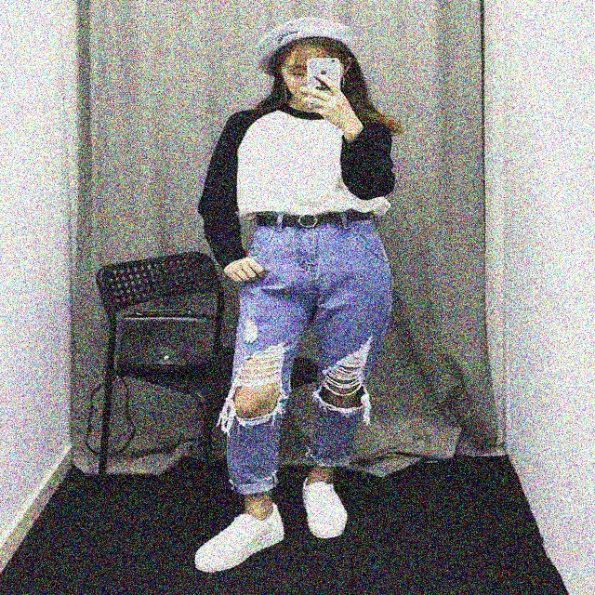ripped_pants: (217, 213, 397, 495)
